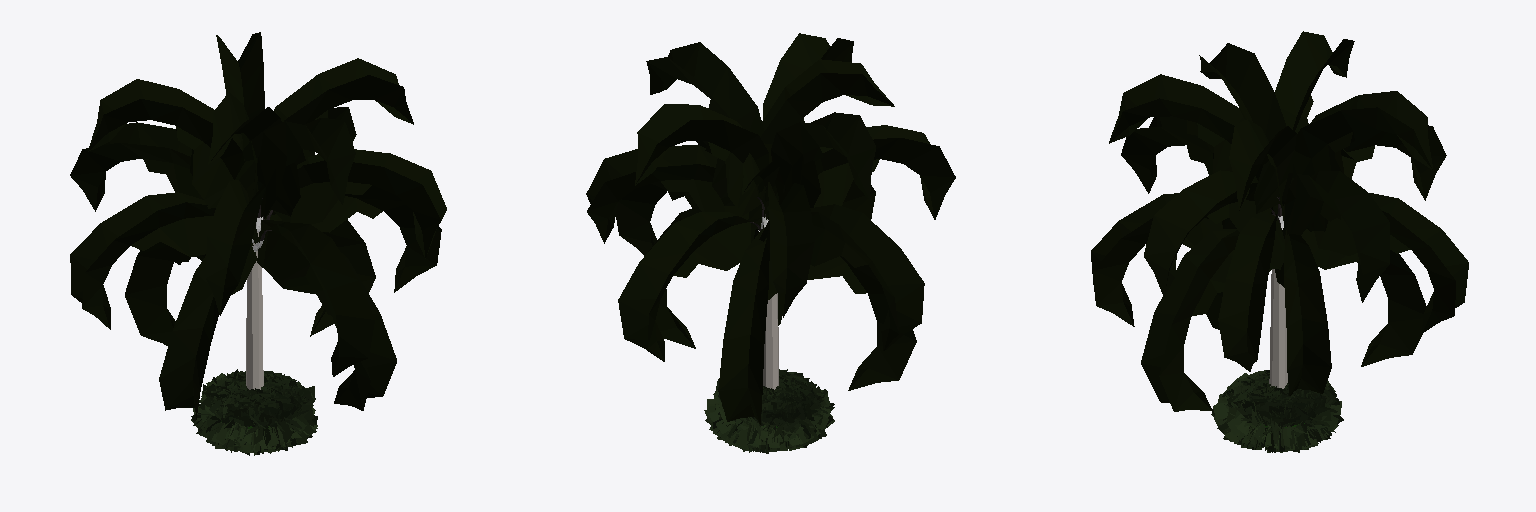
File: Plant_PalmTree.obj
The picture shows the model from 3 angles: view 1: azimuth 30°, elevation 25°; view 2: azimuth 150°, elevation 25°; view 3: azimuth 270°, elevation 25°; orthographic projection.
Visible parts, largest first — view 1: Plant_PalmTree-COM-queen_clean_half_1-299-queen1_clean, Plant_PalmTree-COM-queen_clean_half-298-queen1_clean, Plant_PalmTree-COM-queen_clean_half_3-298-queen1_clean, Plant_PalmTree-COM-queen_clean_half_2-33711-queen1_clean, Plant_PalmTree-COM-queen_clean_half-33710-queen1_clean, Plant_PalmTree-COM-Plant_PalmQueen01-30198-queenbark3; view 2: Plant_PalmTree-COM-queen_clean_half_1-299-queen1_clean, Plant_PalmTree-COM-queen_clean_half-298-queen1_clean, Plant_PalmTree-COM-queen_clean_half_3-298-queen1_clean, Plant_PalmTree-COM-queen_clean_half-33710-queen1_clean, Plant_PalmTree-COM-Plant_PalmQueen01-30198-queenbark3, Plant_PalmTree-COM-queen_clean_half_2-33711-queen1_clean; view 3: Plant_PalmTree-COM-queen_clean_half_1-299-queen1_clean, Plant_PalmTree-COM-queen_clean_half-298-queen1_clean, Plant_PalmTree-COM-queen_clean_half_3-298-queen1_clean, Plant_PalmTree-COM-queen_clean_half-33710-queen1_clean, Plant_PalmTree-COM-queen_clean_half_2-33711-queen1_clean, Plant_PalmTree-COM-Plant_PalmQueen01-30198-queenbark3.
Part boxes in pixels (x1,y1,x2,y2): Plant_PalmTree-COM-queen_clean_half_1-299-queen1_clean: (70,32,441,410); Plant_PalmTree-COM-queen_clean_half-298-queen1_clean: (70,99,446,376); Plant_PalmTree-COM-queen_clean_half_3-298-queen1_clean: (125,35,398,419); Plant_PalmTree-COM-queen_clean_half_2-33711-queen1_clean: (257,121,342,218); Plant_PalmTree-COM-queen_clean_half-33710-queen1_clean: (270,118,355,216); Plant_PalmTree-COM-Plant_PalmQueen01-30198-queenbark3: (246,232,263,389); Plant_PalmTree-COM-queen_clean_half_1-299-queen1_clean: (586,42,955,421); Plant_PalmTree-COM-queen_clean_half-298-queen1_clean: (587,104,934,361); Plant_PalmTree-COM-queen_clean_half_3-298-queen1_clean: (635,57,893,424); Plant_PalmTree-COM-queen_clean_half-33710-queen1_clean: (763,33,830,119); Plant_PalmTree-COM-Plant_PalmQueen01-30198-queenbark3: (763,293,778,389); Plant_PalmTree-COM-queen_clean_half_2-33711-queen1_clean: (803,38,853,122); Plant_PalmTree-COM-queen_clean_half_1-299-queen1_clean: (1091,39,1455,402); Plant_PalmTree-COM-queen_clean_half-298-queen1_clean: (1093,31,1468,371); Plant_PalmTree-COM-queen_clean_half_3-298-queen1_clean: (1159,55,1433,411); Plant_PalmTree-COM-queen_clean_half-33710-queen1_clean: (1109,98,1262,182); Plant_PalmTree-COM-queen_clean_half_2-33711-queen1_clean: (1109,74,1252,158); Plant_PalmTree-COM-Plant_PalmQueen01-30198-queenbark3: (1269,269,1287,388).
Bounding box in the file's own units: 6.37 × 6.8 × 6.37.